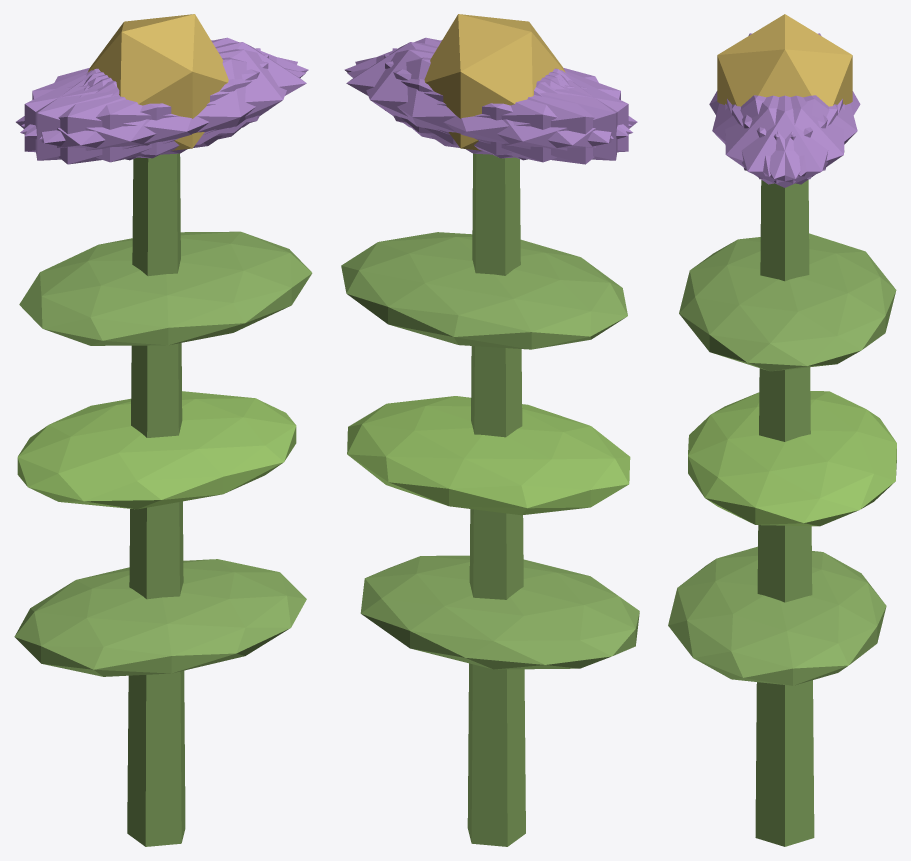
File: acalypha-indica.glb
The picture shows the model from 3 angles, left to right: view 1: azimuth 30°, elevation 25°; view 2: azimuth 150°, elevation 25°; view 3: azimuth 270°, elevation 25°; orthographic projection.
Visible parts, largest first — view 1: stem, leaf0, leaf2, leaf1, center, petal1, petal6, petal2, petal5, petal7, petal0, petal4 (+2 smaller); view 2: stem, leaf1, leaf2, leaf0, center, petal8, petal3, petal7, petal4, petal2, petal0, petal5 (+2 smaller); view 3: stem, leaf2, leaf1, leaf0, center, petal0, petal5, petal4, petal8, petal1.
Boxes of the visible parts, bbox=[...] form: stem: bbox=[127, 153, 185, 846]; leaf0: bbox=[14, 559, 306, 676]; leaf2: bbox=[19, 231, 312, 345]; leaf1: bbox=[17, 391, 296, 509]; center: bbox=[87, 14, 228, 150]; petal1: bbox=[20, 57, 305, 162]; petal6: bbox=[16, 70, 222, 164]; petal2: bbox=[35, 48, 260, 160]; petal5: bbox=[39, 49, 297, 155]; petal7: bbox=[24, 54, 268, 158]; petal0: bbox=[87, 42, 306, 145]; petal4: bbox=[21, 37, 308, 136]; stem: bbox=[467, 153, 525, 846]; leaf1: bbox=[347, 396, 630, 515]; leaf2: bbox=[341, 232, 627, 349]; leaf0: bbox=[360, 555, 639, 669]; center: bbox=[424, 14, 565, 150]; petal8: bbox=[347, 57, 632, 162]; petal3: bbox=[430, 70, 637, 164]; petal7: bbox=[392, 48, 617, 160]; petal4: bbox=[355, 49, 613, 155]; petal2: bbox=[384, 54, 628, 158]; petal0: bbox=[346, 42, 565, 144]; petal5: bbox=[344, 37, 631, 136]; stem: bbox=[755, 180, 814, 846]; leaf2: bbox=[679, 233, 896, 371]; leaf1: bbox=[688, 391, 896, 526]; leaf0: bbox=[668, 546, 886, 685]; center: bbox=[717, 14, 852, 106]; petal0: bbox=[727, 95, 842, 187]; petal5: bbox=[725, 95, 837, 184]; petal4: bbox=[732, 95, 844, 184]; petal8: bbox=[742, 95, 857, 176]; petal1: bbox=[712, 95, 827, 176].
Size of the model in its own units: 0.1452 by 0.4004 by 0.1036.
